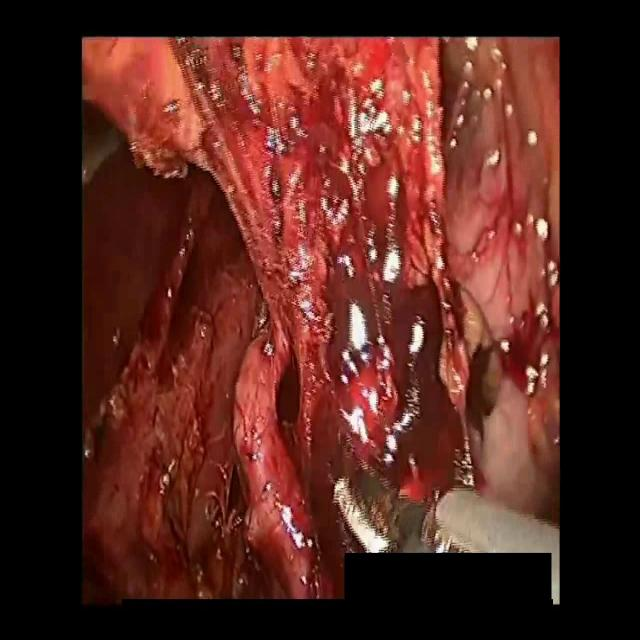surgical-area: (83, 38, 560, 604)
